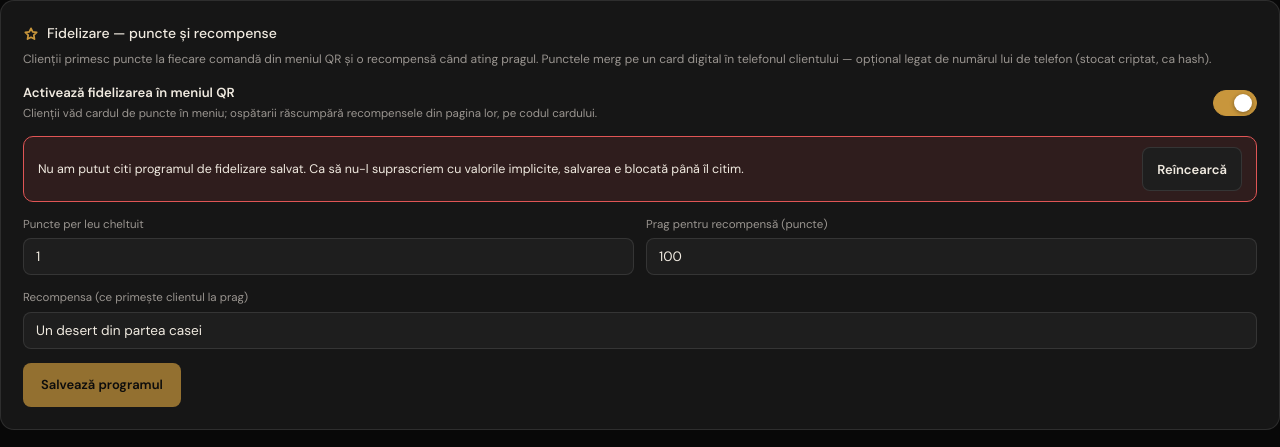
it: LoyaltySettingsCard — citirea programului › LY2: „Reîncearcă" citește din nou și deblochează salvarea
The width and height of the screenshot is (1280, 447).
Click the button "Reîncearcă" at (1192, 169), box [1142,147,1242,191]
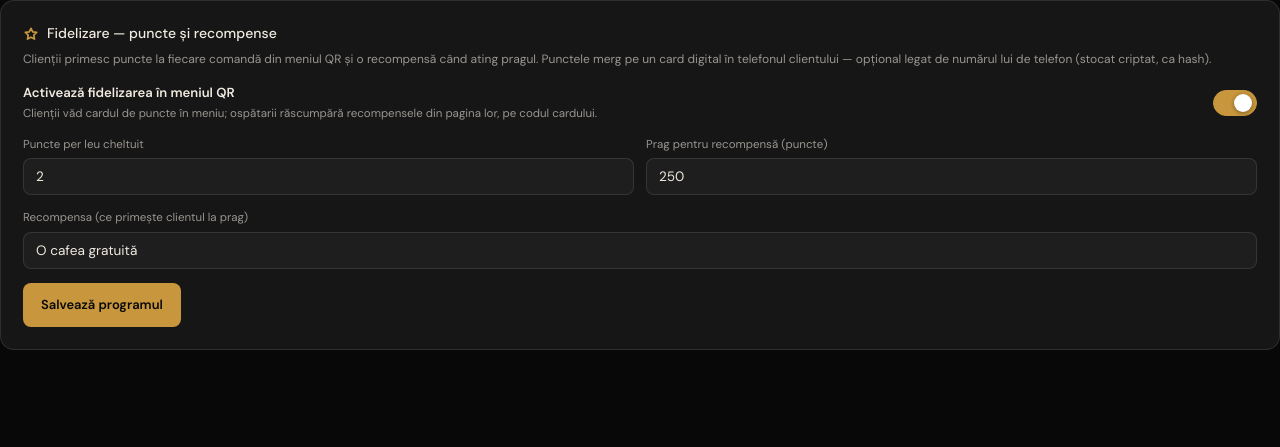
Expected: the button "Salvează programul" is enabled, [23,283,181,327]
Expected: the message is gone
Expected: the field labelled "Prag pentru recompensă (puncte)" holds "250", [646,158,1257,195]
